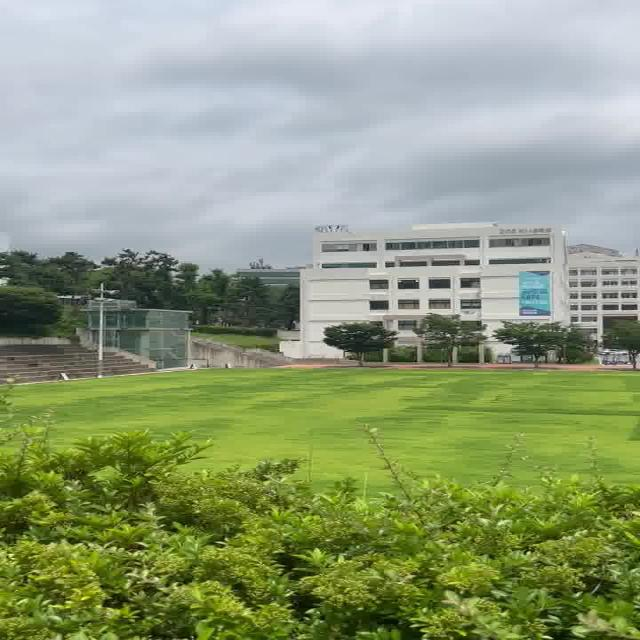building: (288, 216, 576, 326)
